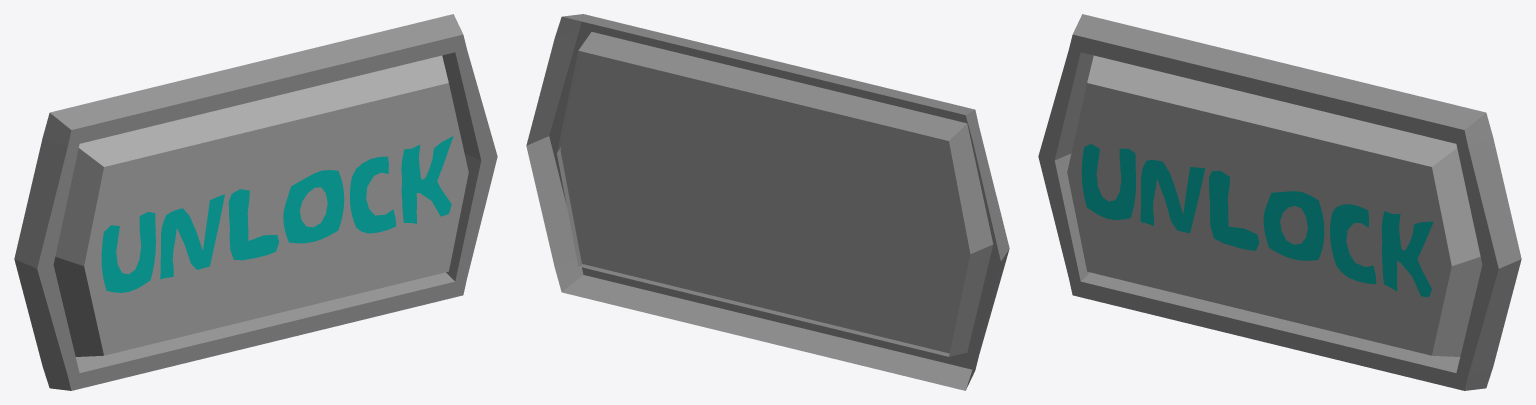
Rendered from mesh_buybutton.fbx.
3 views of the same model, side by side, from view 1: azimuth 30°, elevation 25°; view 2: azimuth 150°, elevation 25°; view 3: azimuth 330°, elevation 25° (orthographic).
Visible parts, largest first — view 1: mesh_upgradescreen_buy, mesh_upgradescreen_buy2, mesh_upgradescreen_buy3; view 2: mesh_upgradescreen_buy, mesh_upgradescreen_buy2; view 3: mesh_upgradescreen_buy, mesh_upgradescreen_buy2, mesh_upgradescreen_buy3.
Boxes of the visible parts, x1,y1,x2,y2 form: mesh_upgradescreen_buy: (53,55,468,356); mesh_upgradescreen_buy2: (14,14,497,390); mesh_upgradescreen_buy3: (101,136,453,292); mesh_upgradescreen_buy: (560,51,970,353); mesh_upgradescreen_buy2: (526,14,1009,390); mesh_upgradescreen_buy: (1067,55,1482,356); mesh_upgradescreen_buy2: (1038,14,1521,390); mesh_upgradescreen_buy3: (1081,144,1433,297).
Bounding box in the file's own units: 0.1124 × 0.0624 × 0.0108.
